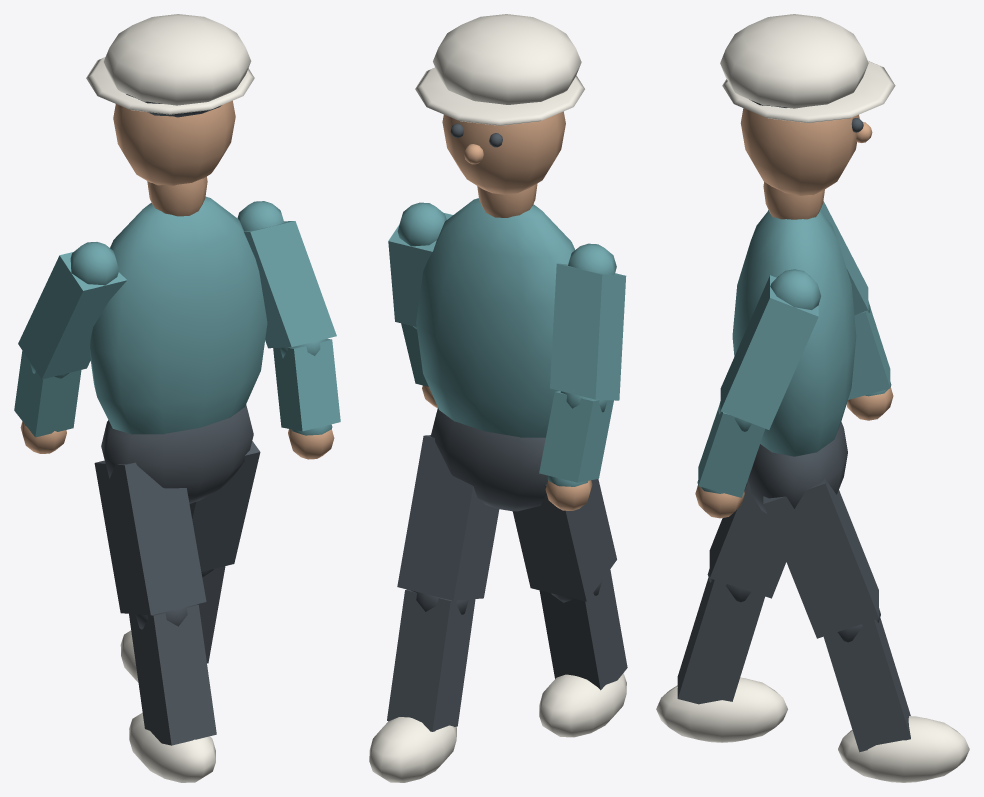
File: person-teknisi-step-a.glb
3 renders of one model, left to right at view 1: azimuth 30°, elevation 25°; view 2: azimuth 150°, elevation 25°; view 3: azimuth 270°, elevation 25°, orthographic. The views are drawn at different scales.
Visible parts, largest first — view 1: person-teknisi-step-a; view 2: person-teknisi-step-a; view 3: person-teknisi-step-a.
Boxes of the visible parts, x1=… form: person-teknisi-step-a: x1=14, y1=14, x2=340, y2=782; person-teknisi-step-a: x1=369, y1=14, x2=627, y2=782; person-teknisi-step-a: x1=656, y1=14, x2=969, y2=782.
Bounding box in the file's own units: 0.71 × 1.96 × 0.76.
